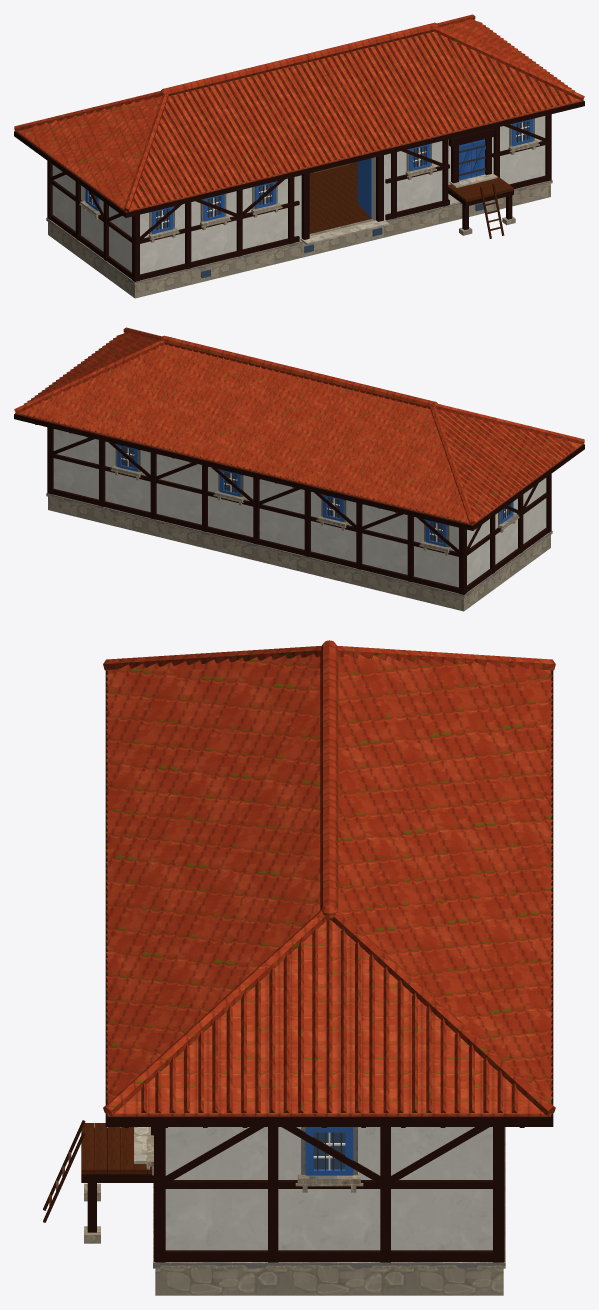
Rendered from barn.gltf.
The picture shows the model from 3 angles, top to bottom: view 1: azimuth 30°, elevation 25°; view 2: azimuth 150°, elevation 25°; view 3: azimuth 270°, elevation 25°; orthographic projection. The views are drawn at different scales.
Parts seen in each view (by area): view 1: barn; view 2: barn; view 3: barn.
Part boxes in pixels (<box>): barn: <box>14,14,584,298</box>; barn: <box>14,327,584,611</box>; barn: <box>43,640,555,1295</box>.
Size of what is drawn, in the model's own units: 20.18 by 6.69 by 9.71.
Materials: 10 (5 with a texture image).
